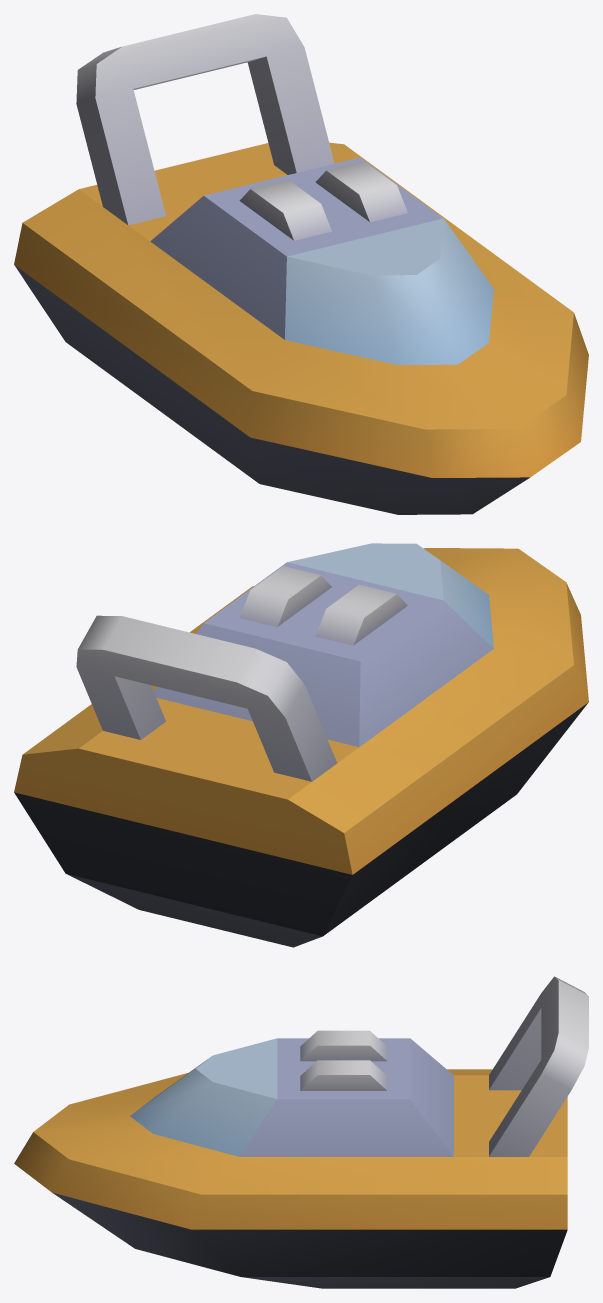
File: boat-speed-b.glb
3 renders of one model, top to bottom at view 1: azimuth 30°, elevation 25°; view 2: azimuth 150°, elevation 25°; view 3: azimuth 270°, elevation 25°, orthographic. The views are drawn at different scales.
Visible parts, largest first — view 1: boat-speed-b; view 2: boat-speed-b; view 3: boat-speed-b.
Part boxes in pixels (<box>): boat-speed-b: <box>14,14,588,514</box>; boat-speed-b: <box>14,543,588,947</box>; boat-speed-b: <box>14,976,588,1288</box>.
Size of the model in its own units: 1.78 by 1.59 by 3.29.
